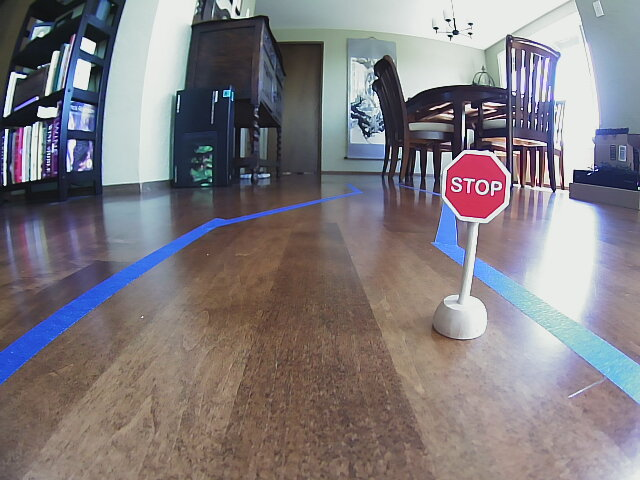StopSign: (444, 152, 510, 224)
